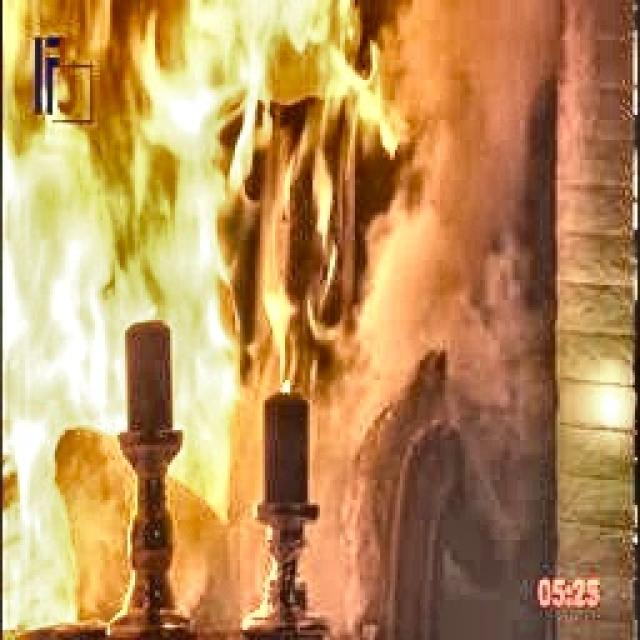fire: (5, 0, 343, 295)
